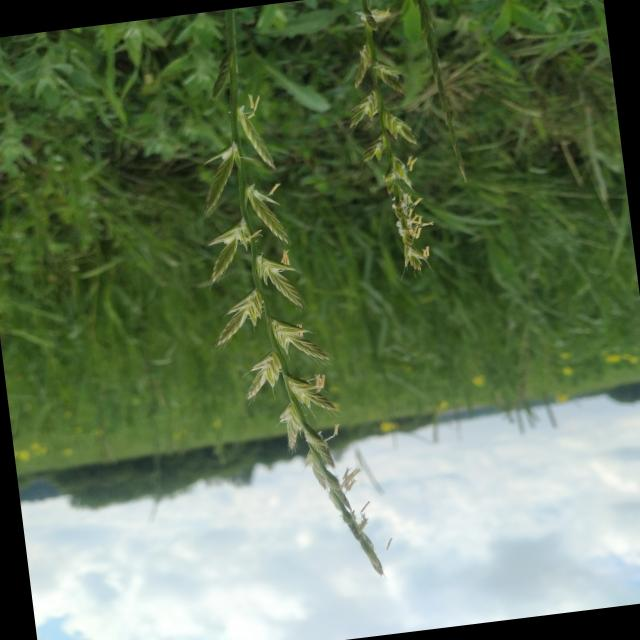Lolium: (169, 1, 395, 598)
